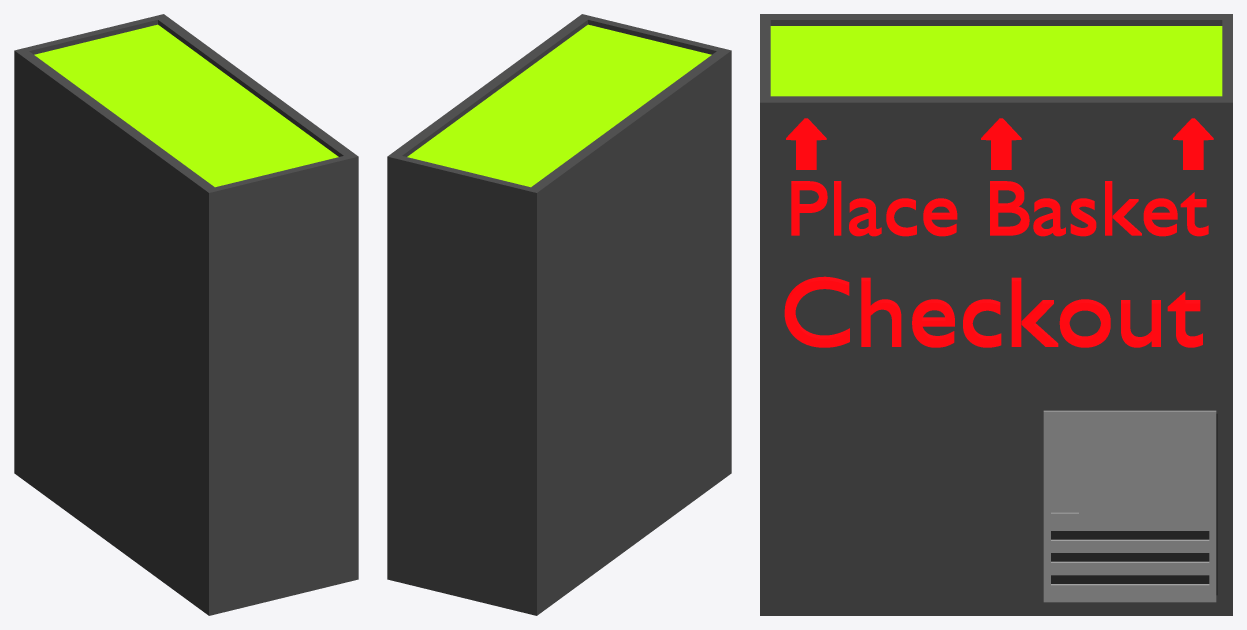
Rendered from checkout.glb.
3 renders of one model, left to right at view 1: azimuth 30°, elevation 25°; view 2: azimuth 150°, elevation 25°; view 3: azimuth 270°, elevation 25°, orthographic. The views are drawn at different scales.
Visible parts, largest first — view 1: Checkout, Checkout_Surface; view 2: Checkout, Checkout_Surface; view 3: Checkout, Checkout_Surface, Checkout_Vent, Checkout_Sign_Text, Checkout_Basket_Text, Checkout_Vent_Back.
Part boxes in pixels (box(x1,y1,x2,y2)): Checkout: box(14, 14, 358, 615); Checkout_Surface: box(34, 24, 338, 187); Checkout: box(387, 14, 731, 615); Checkout_Surface: box(407, 24, 711, 187); Checkout: box(760, 14, 1232, 615); Checkout_Surface: box(770, 26, 1222, 96); Checkout_Vent: box(1043, 410, 1216, 602); Checkout_Sign_Text: box(784, 276, 1202, 347); Checkout_Basket_Text: box(791, 181, 1208, 236); Checkout_Vent_Back: box(1051, 413, 1217, 595).
Bounding box in the file's own units: 0.2963 × 0.7691 × 0.6421.
